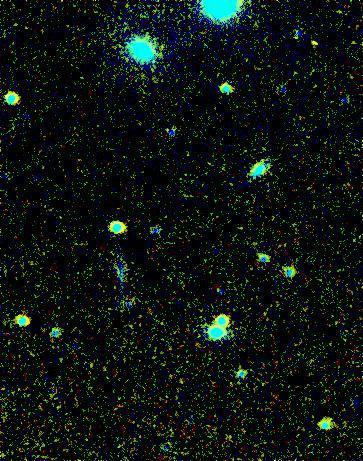star: (293, 26, 323, 56)
